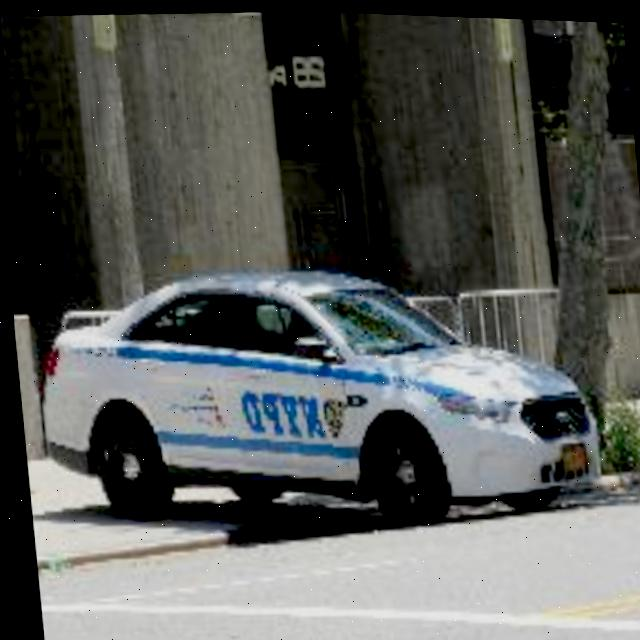emergency: (8, 234, 608, 549)
